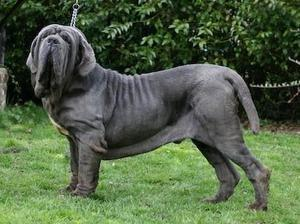neapolitan_mastiff: (25, 24, 271, 212)
